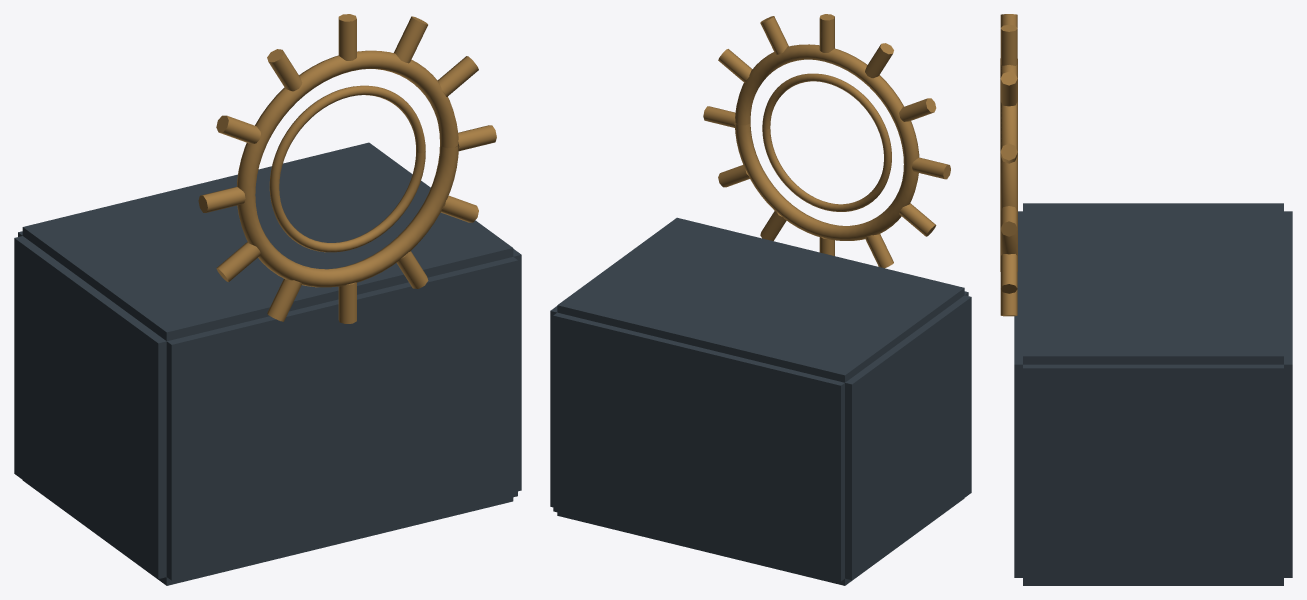
File: fracture-anchor-v01.glb
3 views of the same model, side by side, from view 1: azimuth 30°, elevation 25°; view 2: azimuth 150°, elevation 25°; view 3: azimuth 270°, elevation 25° (orthographic). The views are drawn at different scales.
Parts seen in each view (by area): view 1: Fracture Basalt • charcoal, Fracture Bronze • forged warm; view 2: Fracture Basalt • charcoal, Fracture Bronze • forged warm; view 3: Fracture Basalt • charcoal, Fracture Bronze • forged warm.
Part boxes in pixels (x1=…): Fracture Basalt • charcoal: x1=14, y1=142, x2=521, y2=585; Fracture Bronze • forged warm: x1=198, y1=14, x2=496, y2=323; Fracture Basalt • charcoal: x1=550, y1=217, x2=971, y2=585; Fracture Bronze • forged warm: x1=703, y1=14, x2=950, y2=268; Fracture Basalt • charcoal: x1=1014, y1=203, x2=1292, y2=585; Fracture Bronze • forged warm: x1=1000, y1=14, x2=1017, y2=316.
Size of the model in its own units: 1.5 by 2.1 by 1.16.
